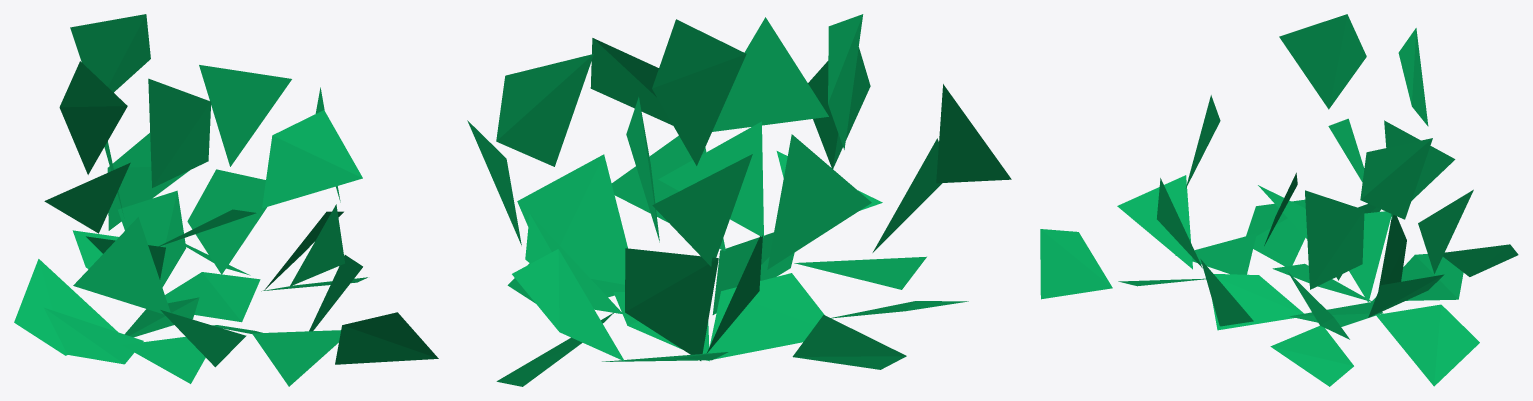
File: PricklyPearCactus_LOD3.fbx
3 views of the same model, side by side, from view 1: azimuth 30°, elevation 25°; view 2: azimuth 150°, elevation 25°; view 3: azimuth 270°, elevation 25° (orthographic). The views are drawn at different scales.
Parts seen in each view (by area): view 1: PricklyPearCactus_LOD3; view 2: PricklyPearCactus_LOD3; view 3: PricklyPearCactus_LOD3.
Part boxes in pixels (<box>): PricklyPearCactus_LOD3: <box>14,14,438,386</box>; PricklyPearCactus_LOD3: <box>467,14,1011,386</box>; PricklyPearCactus_LOD3: <box>1040,14,1518,386</box>.
Size of the model in its own units: 170 by 109 by 128.
